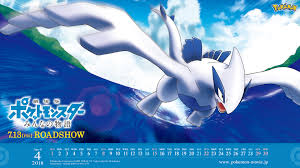lugia: (209, 46, 252, 116)
